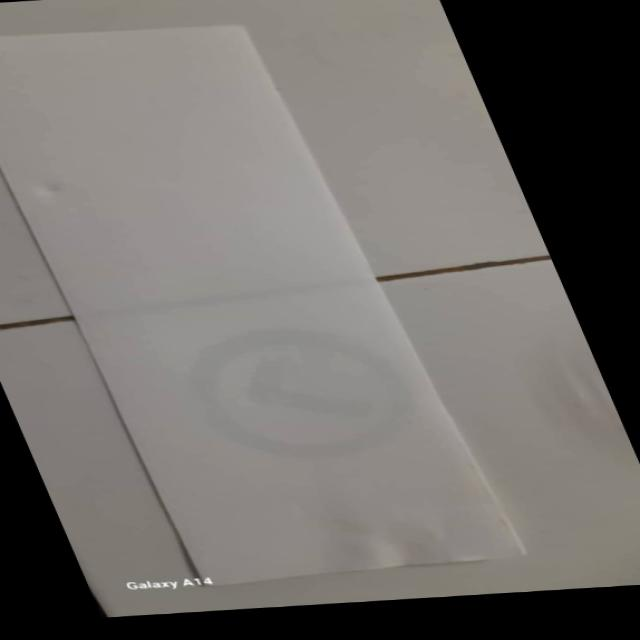Paper Chromatography: (0, 16, 520, 588)
